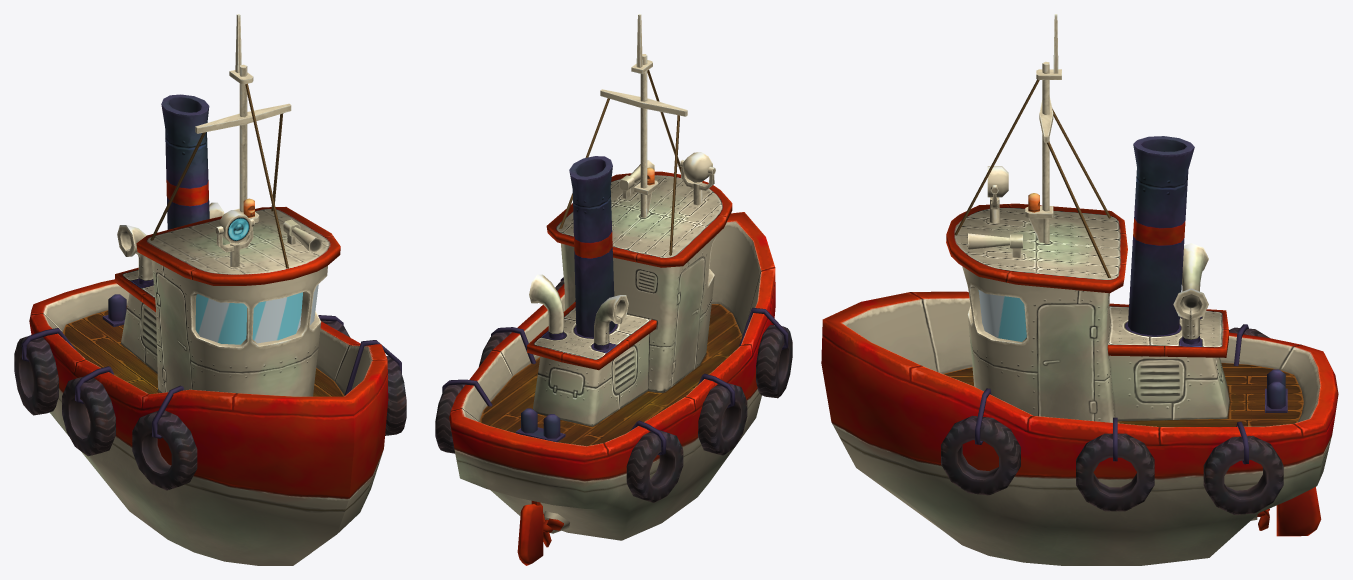
The model's file is boat_015(better_export).fbx.
The picture shows the model from 3 angles, left to right: view 1: azimuth 30°, elevation 25°; view 2: azimuth 150°, elevation 25°; view 3: azimuth 270°, elevation 25°; orthographic projection. The views are drawn at different scales.
Parts seen in each view (by area): view 1: boat, boatGlass, lampTitl, lampTurn; view 2: boat, blade, lampTitl, lampTurn; view 3: boat, boatGlass, blade.
Part boxes in pixels (left/top/right/bottom): boat: left=14, top=14, right=406, bottom=565; boatGlass: left=195, top=284, right=318, bottom=344; lampTitl: left=218, top=210, right=251, bottom=243; lampTurn: left=215, top=218, right=254, bottom=267; boat: left=435, top=14, right=792, bottom=540; blade: left=517, top=501, right=543, bottom=565; lampTitl: left=683, top=152, right=712, bottom=182; lampTurn: left=679, top=160, right=715, bottom=205; boat: left=821, top=14, right=1338, bottom=565; boatGlass: left=978, top=290, right=1026, bottom=341; blade: left=1276, top=487, right=1321, bottom=536.
Size of the model in its own units: 711 by 1179 by 1337.
